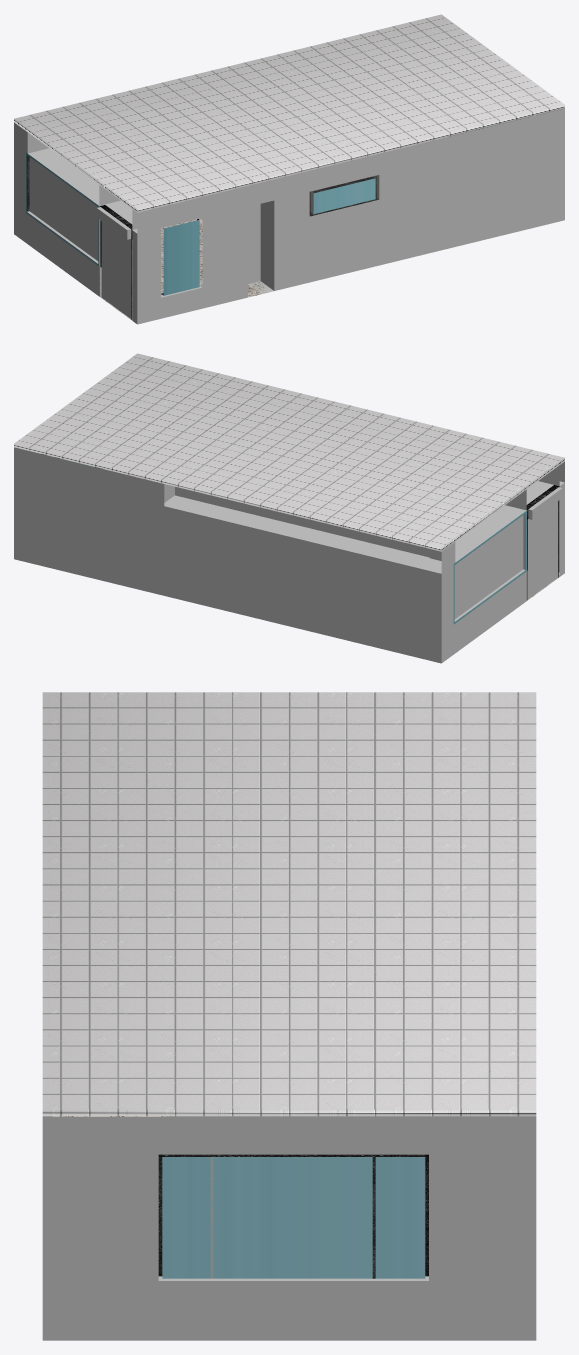
Rendered from PruebaPosta1.fbx.
The picture shows the model from 3 angles, top to bottom: view 1: azimuth 30°, elevation 25°; view 2: azimuth 150°, elevation 25°; view 3: azimuth 270°, elevation 25°; orthographic projection. The views are drawn at different scales.
Visible parts, largest first — view 1: pared, techo, Vidrios, Marco, Piso; view 2: pared, techo, Vidrios; view 3: techo, pared, Vidrios, Marco.
Part boxes in pixels (x1,y1,x2,y2): pared: (14,108,564,324); techo: (14,14,564,212); Vidrios: (26,116,529,295); Marco: (27,118,521,319); Piso: (100,136,449,319); pared: (14,447,564,663); techo: (14,353,564,551); Vidrios: (46,455,526,624); techo: (42,692,536,1116); pared: (42,1116,536,1340); Vidrios: (162,1157,425,1278); Marco: (158,1154,428,1278).
Bounding box in the file's own units: 1816 × 465 × 900.
